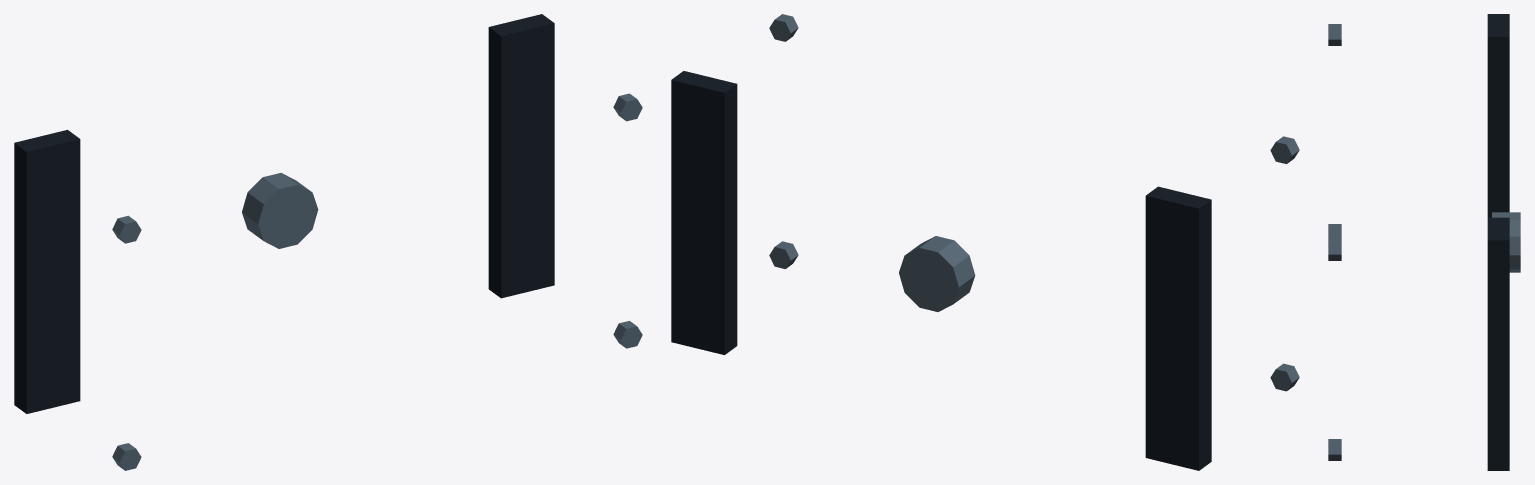
Rendered from P16-02_detail.obj.
The picture shows the model from 3 angles, left to right: view 1: azimuth 30°, elevation 25°; view 2: azimuth 150°, elevation 25°; view 3: azimuth 270°, elevation 25°; orthographic projection. The views are drawn at different scales.
Visible parts, largest first — view 1: P16-02_STATIC_DarkPanel_DETAIL_BackFlange_0, P16-02_STATIC_DarkPanel_DETAIL_BackFlange_1, P16-02_STATIC_Steel_DETAIL_RearCableGland; view 2: P16-02_STATIC_DarkPanel_DETAIL_BackFlange_1, P16-02_STATIC_DarkPanel_DETAIL_BackFlange_0, P16-02_STATIC_Steel_DETAIL_RearCableGland; view 3: P16-02_STATIC_DarkPanel_DETAIL_BackFlange_1, P16-02_STATIC_DarkPanel_DETAIL_BackFlange_0, P16-02_STATIC_Steel_DETAIL_RearCableGland, P16-02_STATIC_Steel_DETAIL_RailScrew_L_T, P16-02_STATIC_Steel_DETAIL_RailScrew_R_B, P16-02_STATIC_Steel_DETAIL_RailScrew_R_T.
Part boxes in pixels (box(x1,y1,x2,y2)): P16-02_STATIC_DarkPanel_DETAIL_BackFlange_0: box(14, 130, 80, 413); P16-02_STATIC_DarkPanel_DETAIL_BackFlange_1: box(488, 14, 554, 298); P16-02_STATIC_Steel_DETAIL_RearCableGland: box(242, 173, 318, 248); P16-02_STATIC_DarkPanel_DETAIL_BackFlange_1: box(671, 71, 737, 354); P16-02_STATIC_DarkPanel_DETAIL_BackFlange_0: box(1145, 186, 1211, 470); P16-02_STATIC_Steel_DETAIL_RearCableGland: box(899, 236, 975, 311); P16-02_STATIC_DarkPanel_DETAIL_BackFlange_1: box(1487, 217, 1509, 470); P16-02_STATIC_DarkPanel_DETAIL_BackFlange_0: box(1487, 14, 1509, 217); P16-02_STATIC_Steel_DETAIL_RearCableGland: box(1492, 212, 1520, 272); P16-02_STATIC_Steel_DETAIL_RailScrew_L_T: box(1328, 24, 1341, 45); P16-02_STATIC_Steel_DETAIL_RailScrew_R_B: box(1328, 439, 1341, 460); P16-02_STATIC_Steel_DETAIL_RailScrew_R_T: box(1328, 239, 1341, 260).
Size of the model in its own units: 0.316 by 0.15 by 0.1135.
